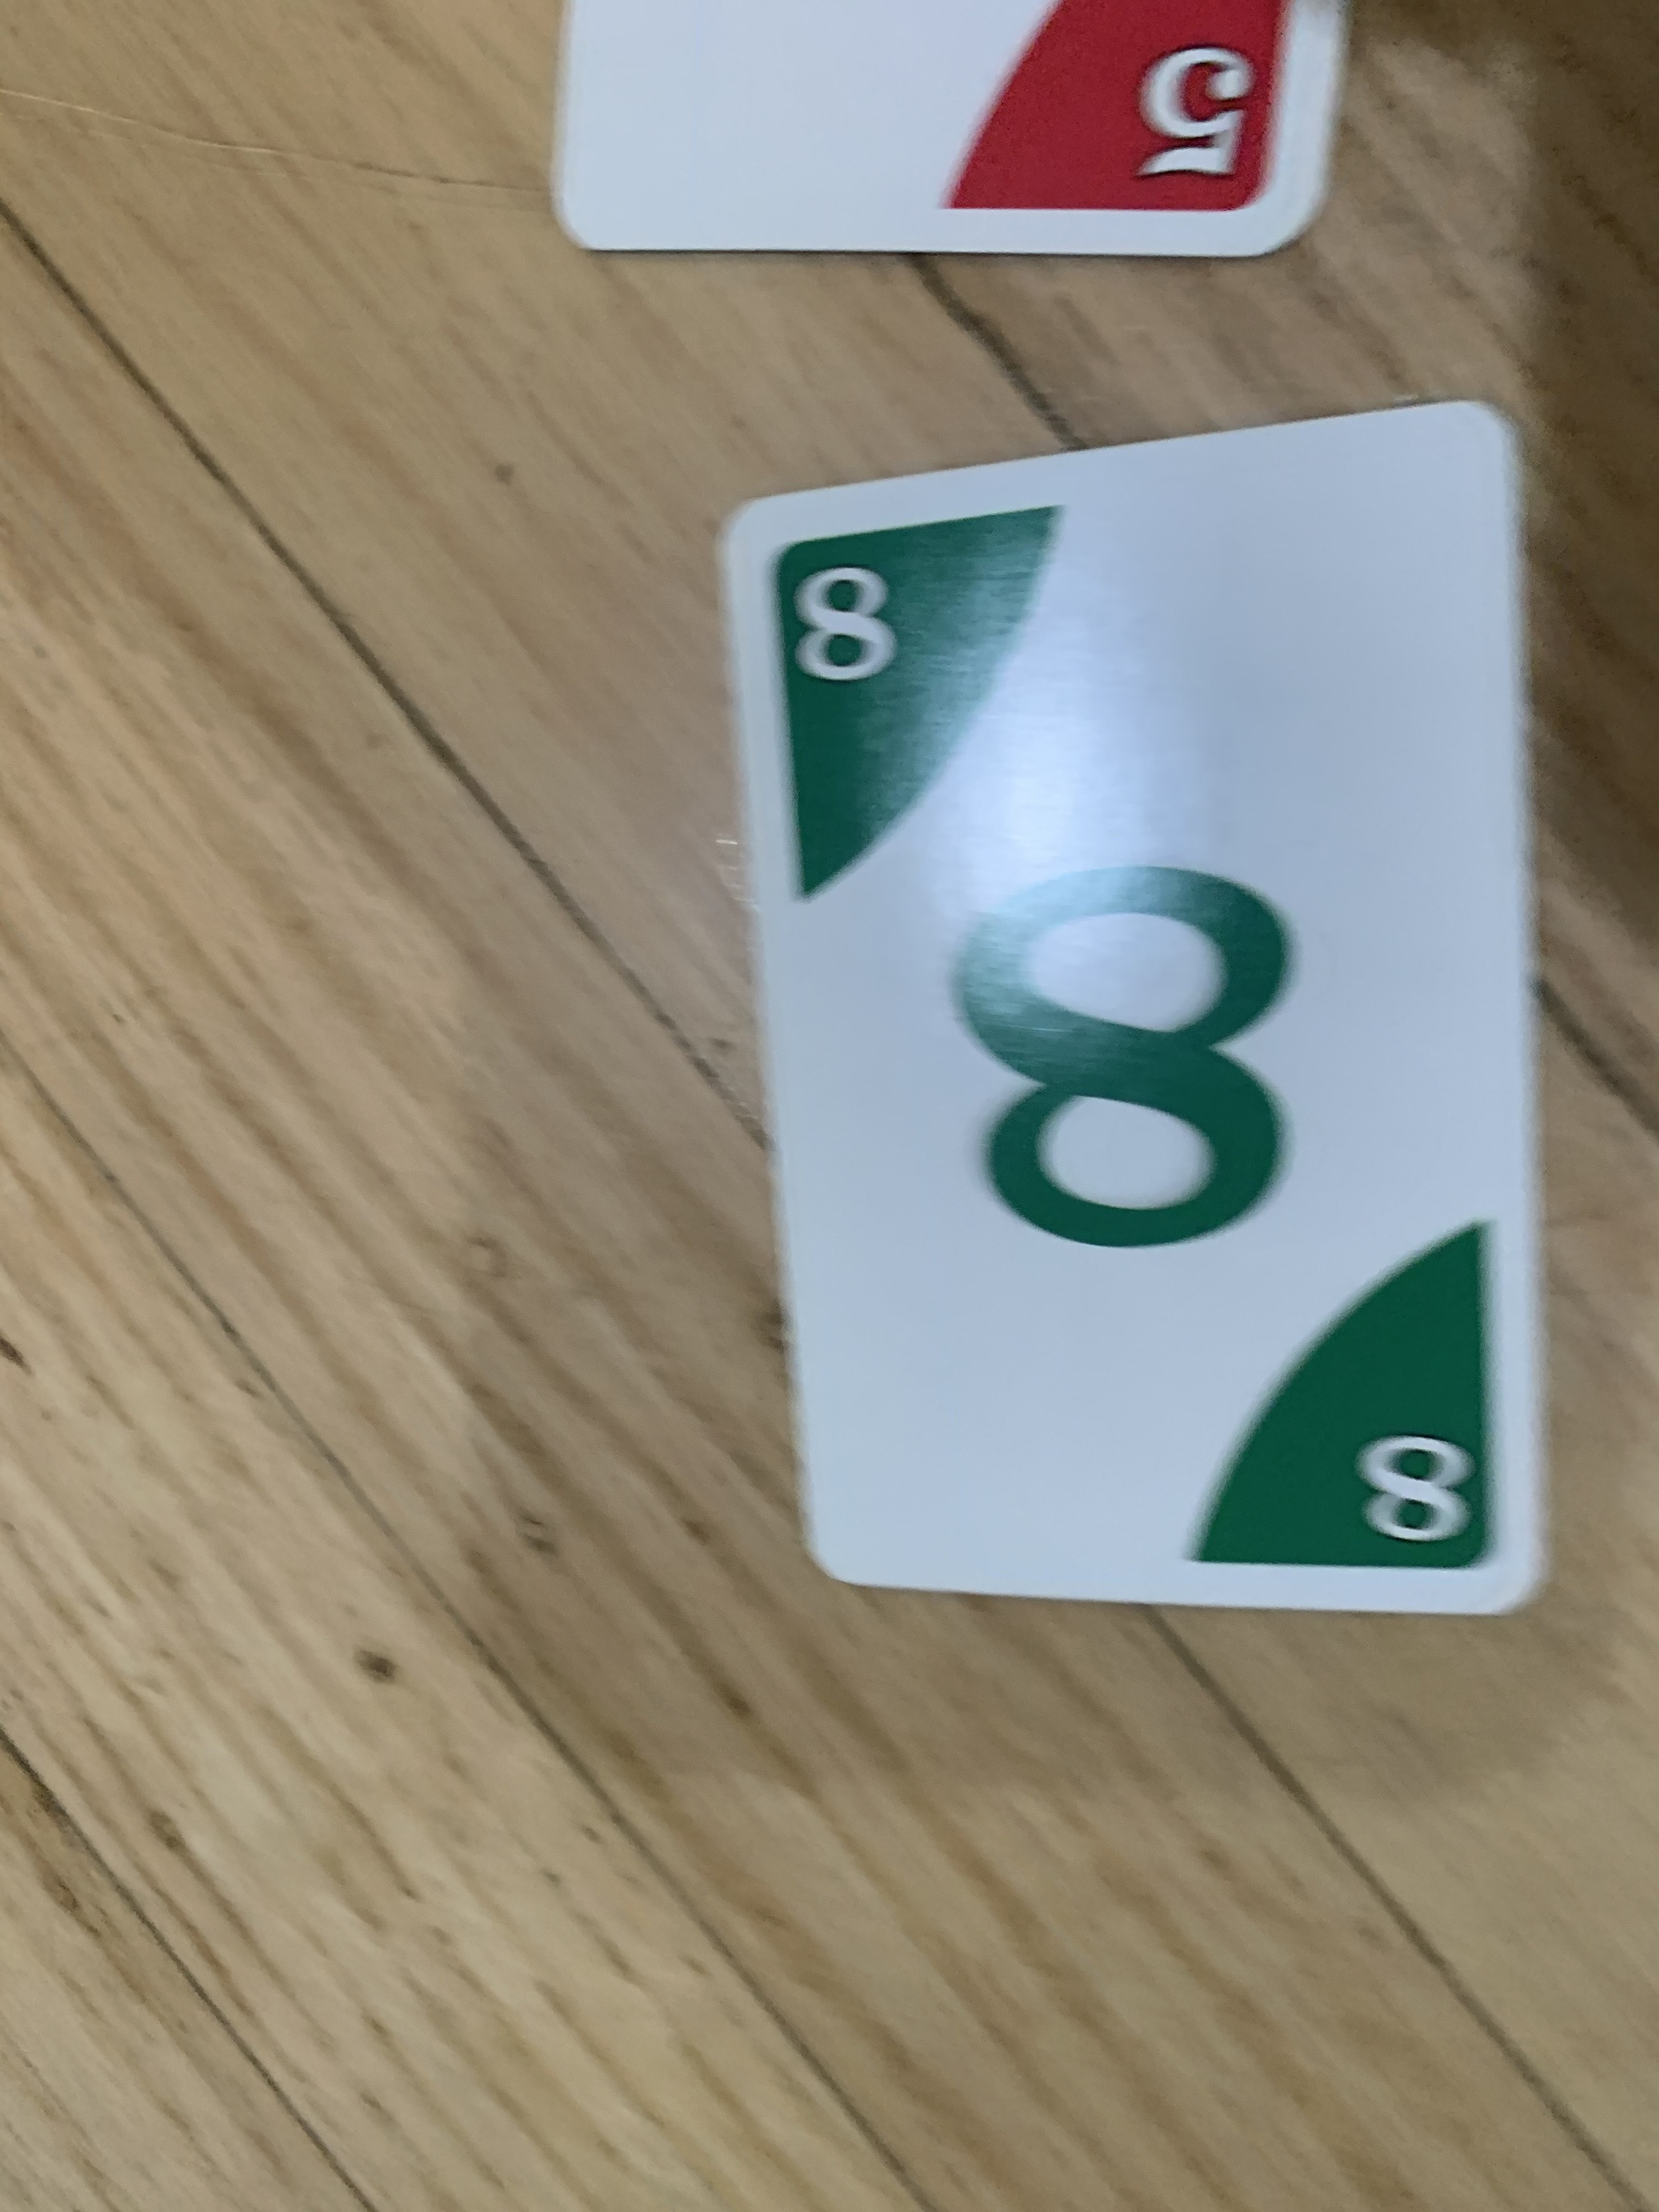eight: (697, 390, 1586, 1662)
